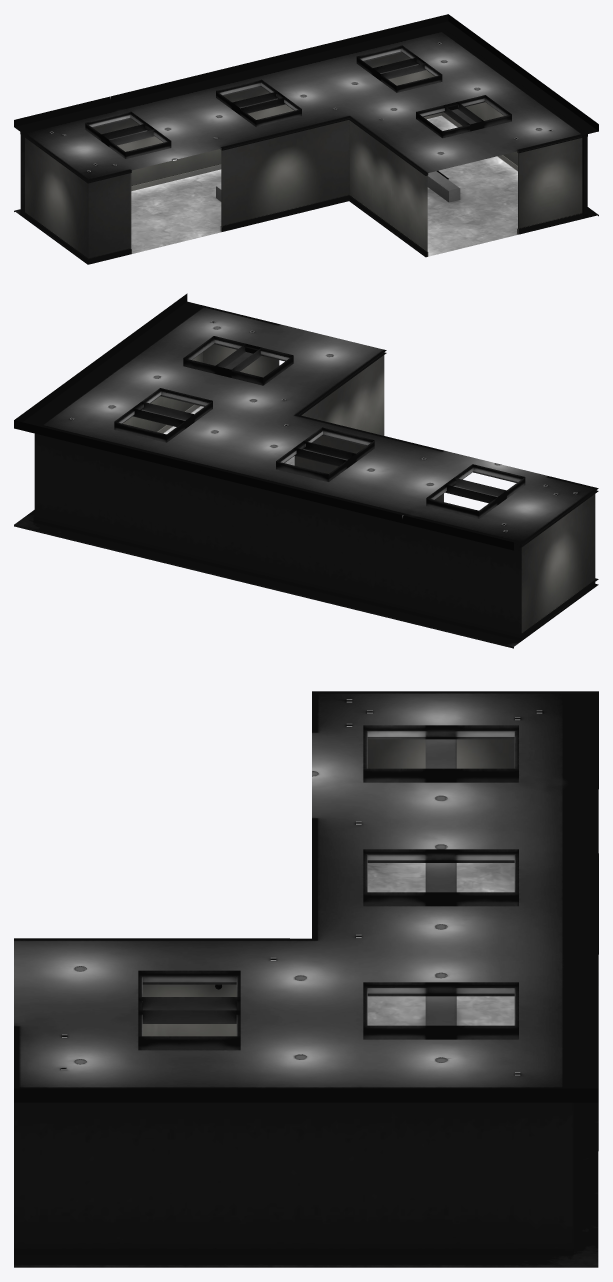
Rendered from Room_7.glb.
The picture shows the model from 3 angles, top to bottom: view 1: azimuth 30°, elevation 25°; view 2: azimuth 150°, elevation 25°; view 3: azimuth 270°, elevation 25°; orthographic projection. The views are drawn at different scales.
Visible parts, largest first — view 1: room_7.001; view 2: room_7.001; view 3: room_7.001.
Boxes of the visible parts, left/top/right/bottom form: room_7.001: left=14, top=14, right=598, bottom=264; room_7.001: left=14, top=293, right=598, bottom=648; room_7.001: left=14, top=691, right=598, bottom=1267.
Bounding box in the file's own units: 16.34 × 3.32 × 9.82.
Materials: 3 (3 with a texture image).
